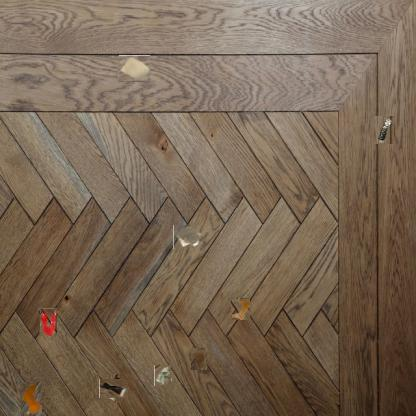dirty: (118, 55, 150, 82), (22, 382, 44, 416), (173, 226, 202, 250), (102, 376, 126, 401), (374, 116, 394, 144), (153, 366, 173, 385), (191, 348, 207, 370)
liquid: (39, 308, 57, 336), (230, 298, 250, 320)
